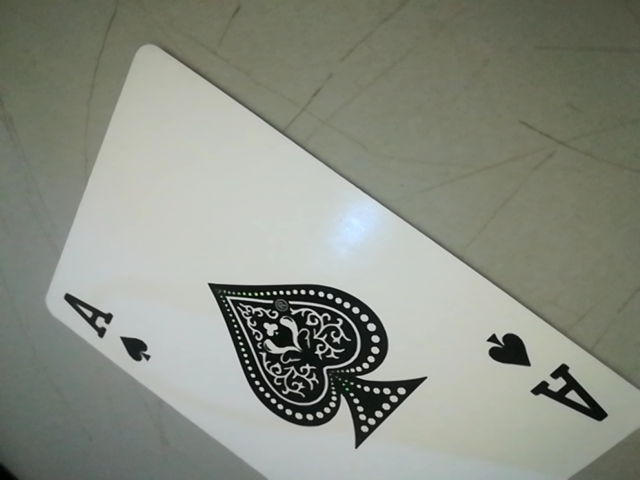ht a: (40, 288, 171, 374)
